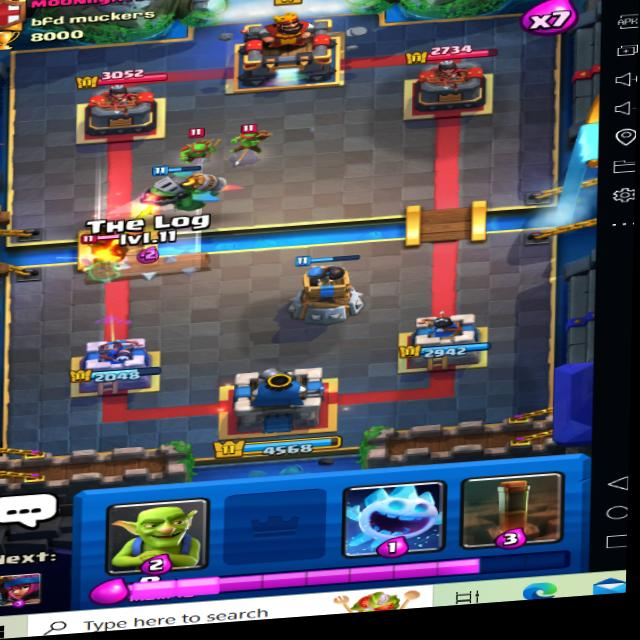monk: (72, 233, 136, 279)
monk-ability: (76, 230, 134, 274)
spear-goblin: (174, 126, 216, 164), (230, 122, 273, 159)
